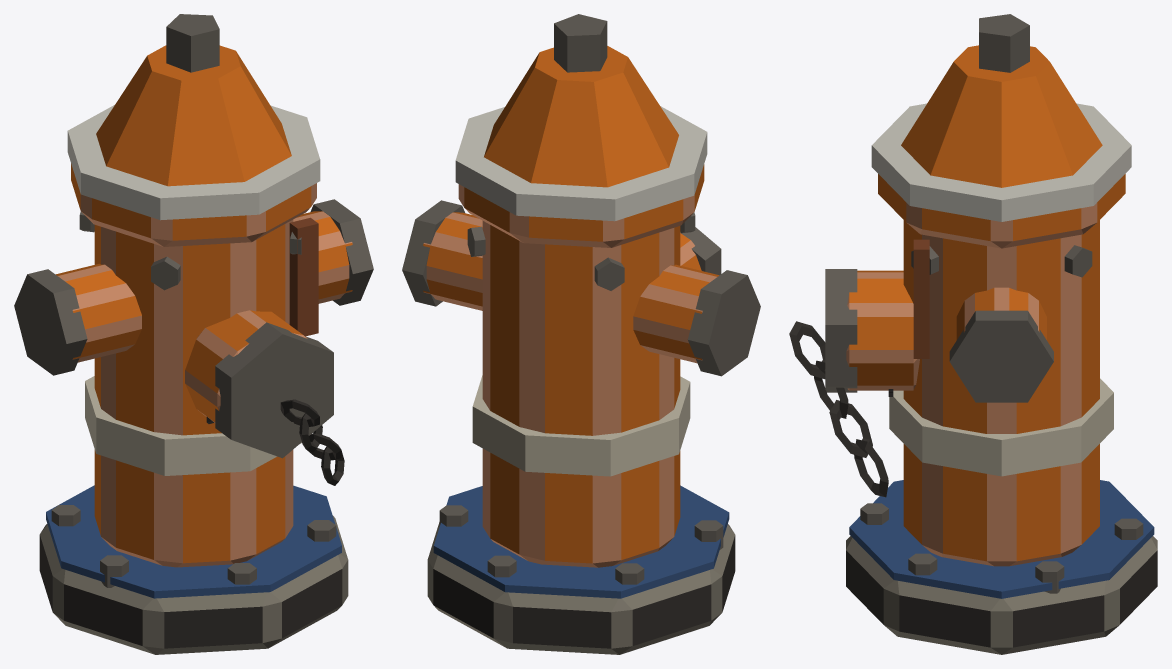
File: c_hydrant.glb
The picture shows the model from 3 angles, left to right: view 1: azimuth 30°, elevation 25°; view 2: azimuth 150°, elevation 25°; view 3: azimuth 270°, elevation 25°; orthographic projection.
Parts seen in each view (by area): view 1: c_hydrant; view 2: c_hydrant; view 3: c_hydrant.
Part boxes in pixels (x1,y1,x2,y2): c_hydrant: (14, 14, 373, 654); c_hydrant: (402, 14, 760, 654); c_hydrant: (789, 14, 1157, 654).
Size of the model in its own units: 0.44 by 0.78 by 0.459.
